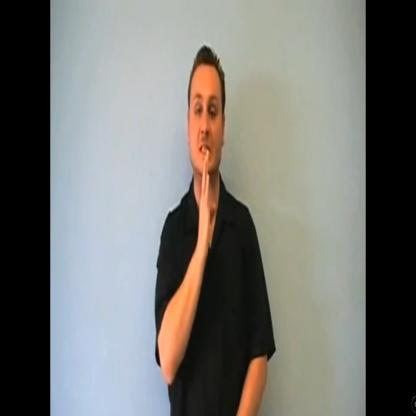Talk: (174, 35, 239, 288)
